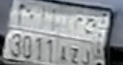0: (23, 7, 36, 64)
1: (36, 8, 49, 62), (47, 12, 60, 63)
3: (12, 4, 22, 62)
A: (56, 18, 71, 63)
J: (82, 19, 98, 65)
Z: (69, 18, 83, 65)
